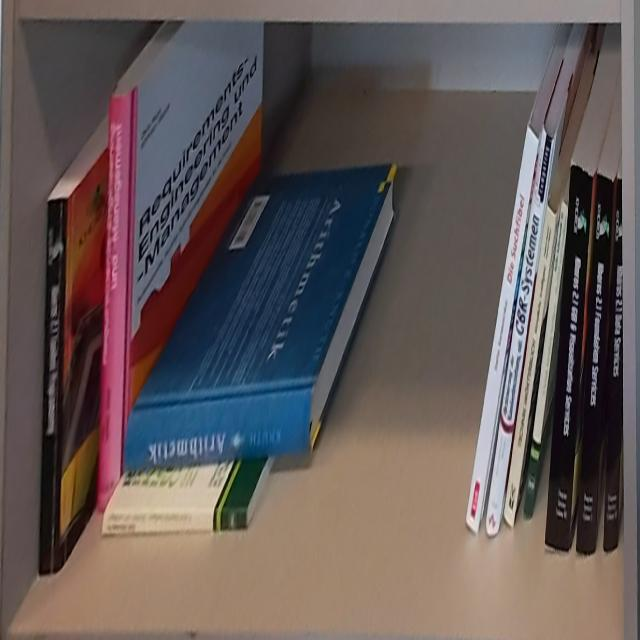Book Spine: (464, 124, 540, 537), (486, 123, 555, 537), (543, 163, 594, 549), (503, 205, 557, 528), (123, 387, 315, 470), (96, 91, 134, 510), (522, 198, 569, 518), (576, 174, 615, 559), (37, 198, 69, 577), (604, 178, 622, 555), (101, 513, 247, 534)
